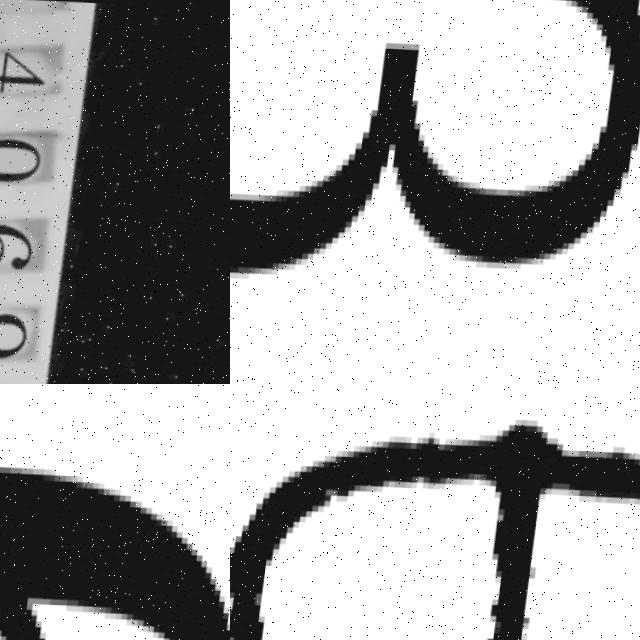0: (0, 110, 68, 195)
1: (0, 0, 78, 26)
3: (230, 0, 640, 291)
4: (0, 24, 75, 106)
6: (0, 440, 230, 640), (0, 195, 65, 288)
9: (0, 284, 59, 375)
E: (230, 417, 640, 640)
